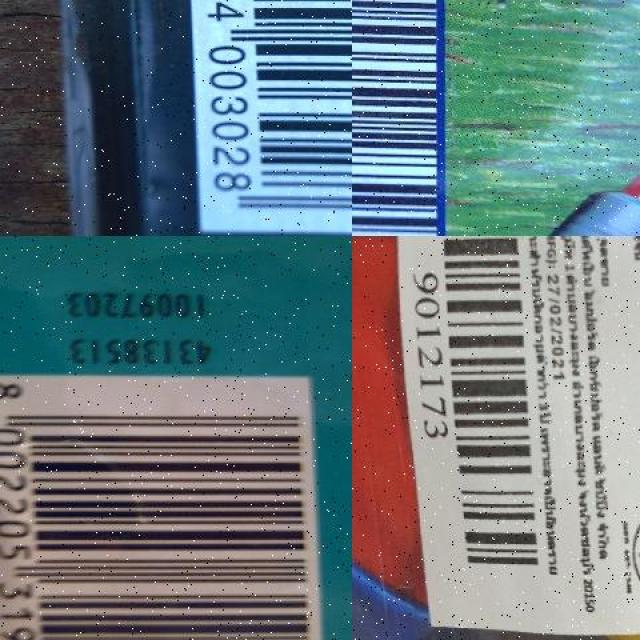Barcode: (0, 376, 316, 640), (402, 236, 538, 581), (168, 0, 352, 236), (352, 0, 445, 236)
